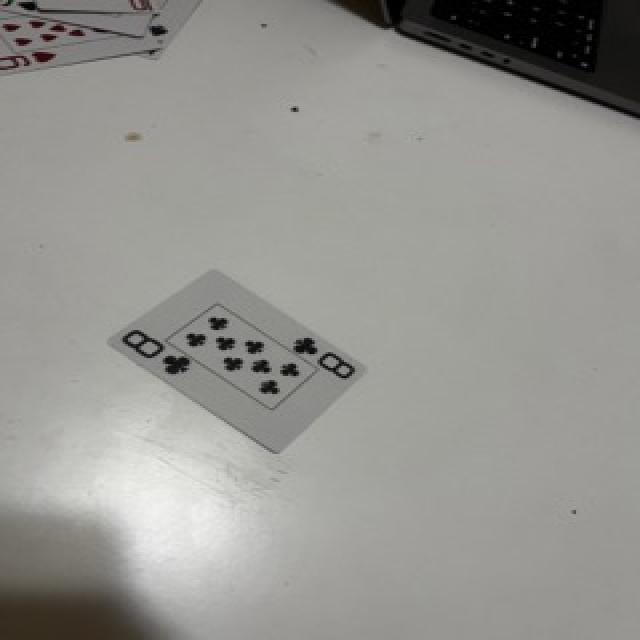8 of clubs: (108, 270, 363, 452)
9 of hearts: (0, 11, 162, 76)
